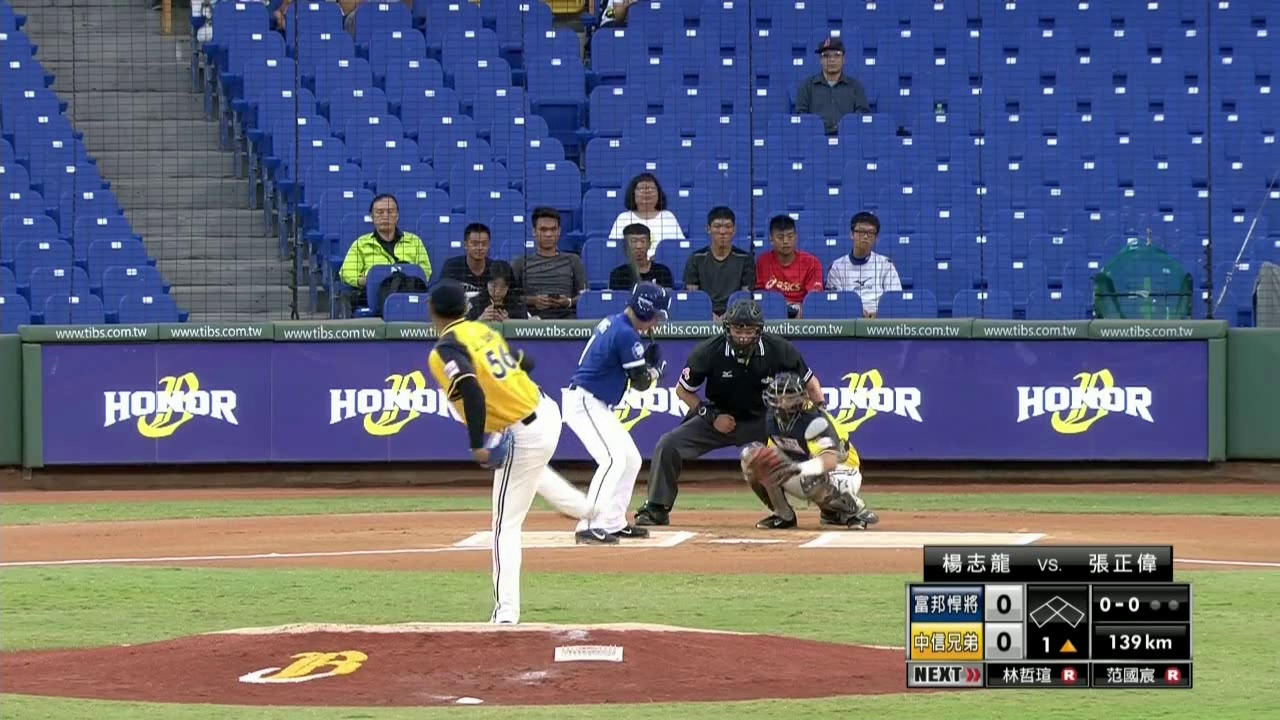base: (1029, 592, 1086, 629)
bat: (618, 237, 659, 346)
out: (1147, 597, 1181, 613)
score1: (986, 583, 1025, 622)
score2: (983, 622, 1025, 659)
session: (1036, 635, 1078, 655)
speed: (1105, 631, 1175, 652)
strikeball: (1097, 592, 1141, 613)
